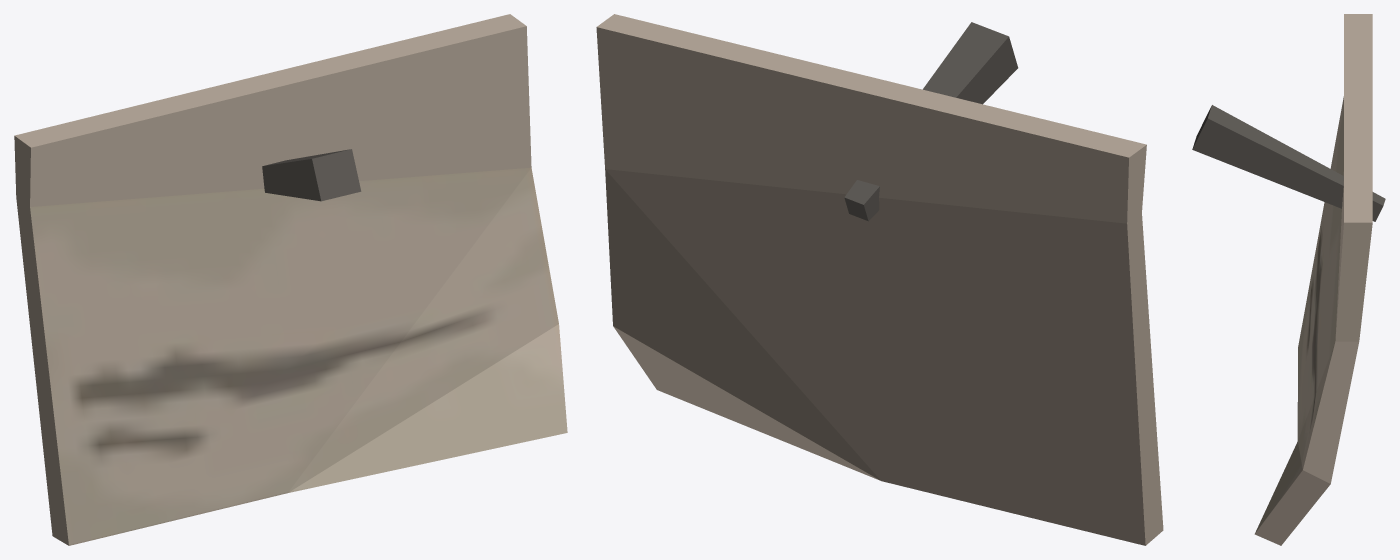
The model's file is kingdom_SM_Prop_Poster_06.gltf.
3 views of the same model, side by side, from view 1: azimuth 30°, elevation 25°; view 2: azimuth 150°, elevation 25°; view 3: azimuth 270°, elevation 25° (orthographic). The views are drawn at different scales.
Parts seen in each view (by area): view 1: SM_Prop_Poster_06; view 2: SM_Prop_Poster_06; view 3: SM_Prop_Poster_06.
Boxes of the visible parts, left/top/right/bottom form: SM_Prop_Poster_06: left=14, top=14, right=567, bottom=545; SM_Prop_Poster_06: left=596, top=14, right=1163, bottom=545; SM_Prop_Poster_06: left=1192, top=14, right=1385, bottom=545.
Bounding box in the file's own units: 0.2479 × 0.1804 × 0.0952.
1 material, 1 textured.
